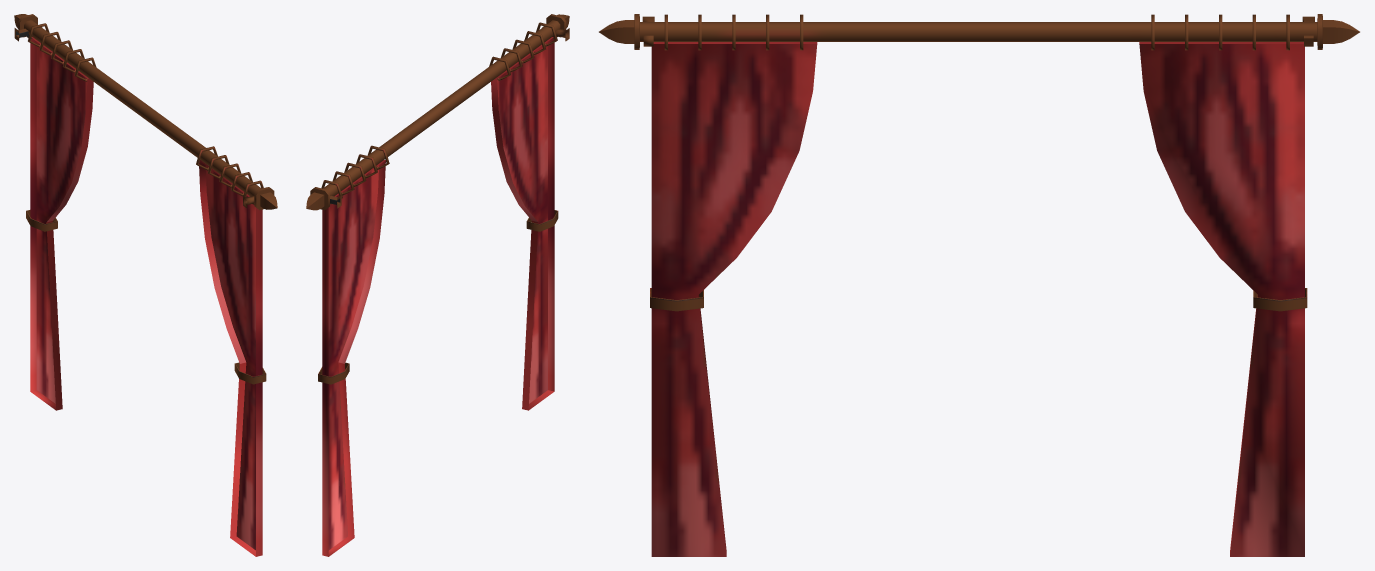
The model's file is PROP_027_Curtain.fbx.
3 views of the same model, side by side, from view 1: azimuth 30°, elevation 25°; view 2: azimuth 150°, elevation 25°; view 3: azimuth 270°, elevation 25° (orthographic). The views are drawn at different scales.
Visible parts, largest first — view 1: Cortina_001; view 2: Cortina_001; view 3: Cortina_001.
Boxes of the visible parts, <box> form: Cortina_001: <box>14,14,277,556</box>; Cortina_001: <box>306,14,569,556</box>; Cortina_001: <box>599,14,1359,556</box>.
Size of the model in its own units: 0.2045 by 2.72 by 3.5.
1 material, 1 textured.
